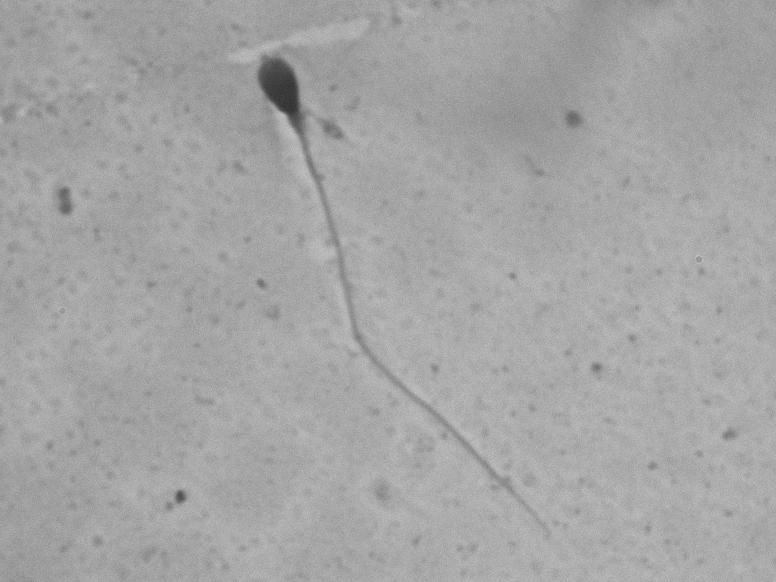Abnormal: (226, 31, 562, 521)
